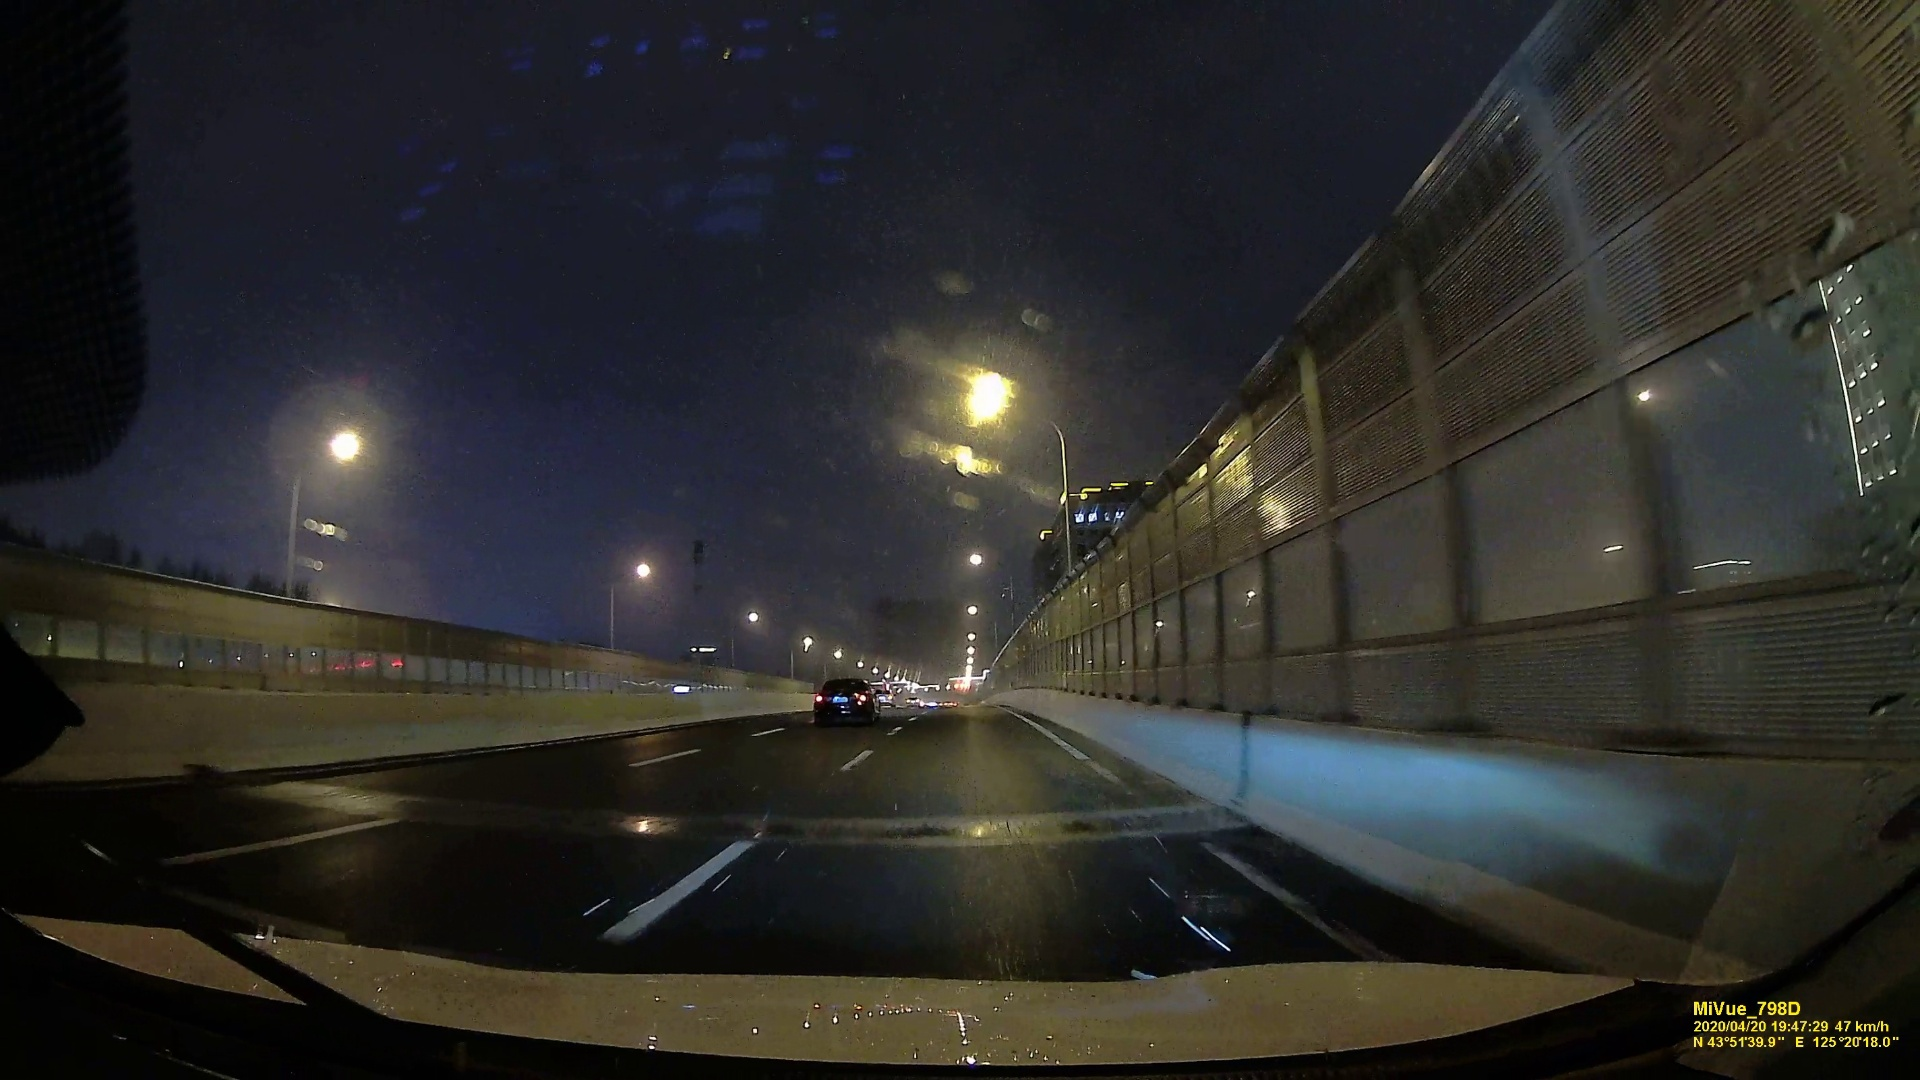vehicle: (811, 676, 882, 728)
